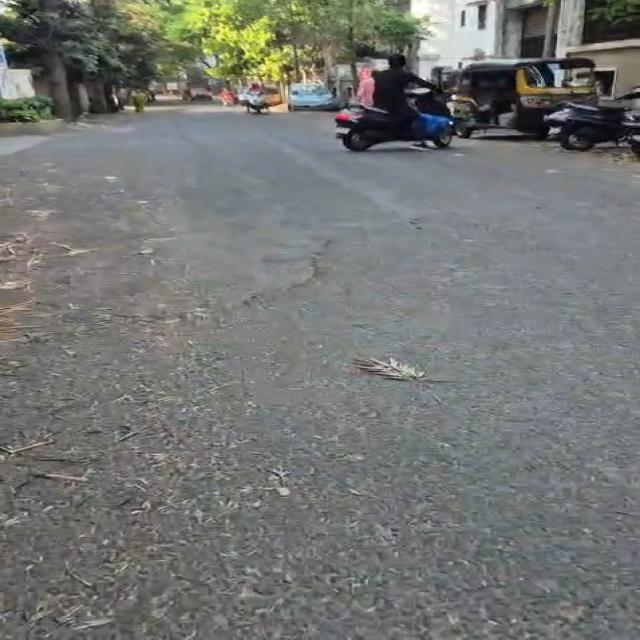bench: (288, 83, 338, 111), (191, 89, 212, 100)
bike: (335, 107, 452, 151), (545, 103, 639, 156), (543, 0, 561, 57), (246, 93, 269, 113)
